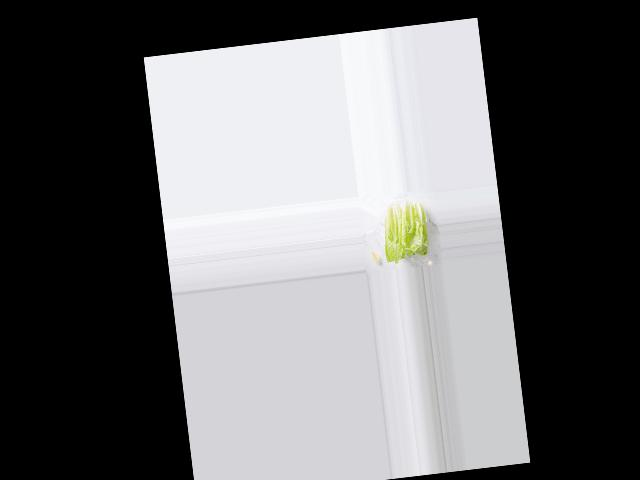lettuce: (377, 198, 433, 265)
